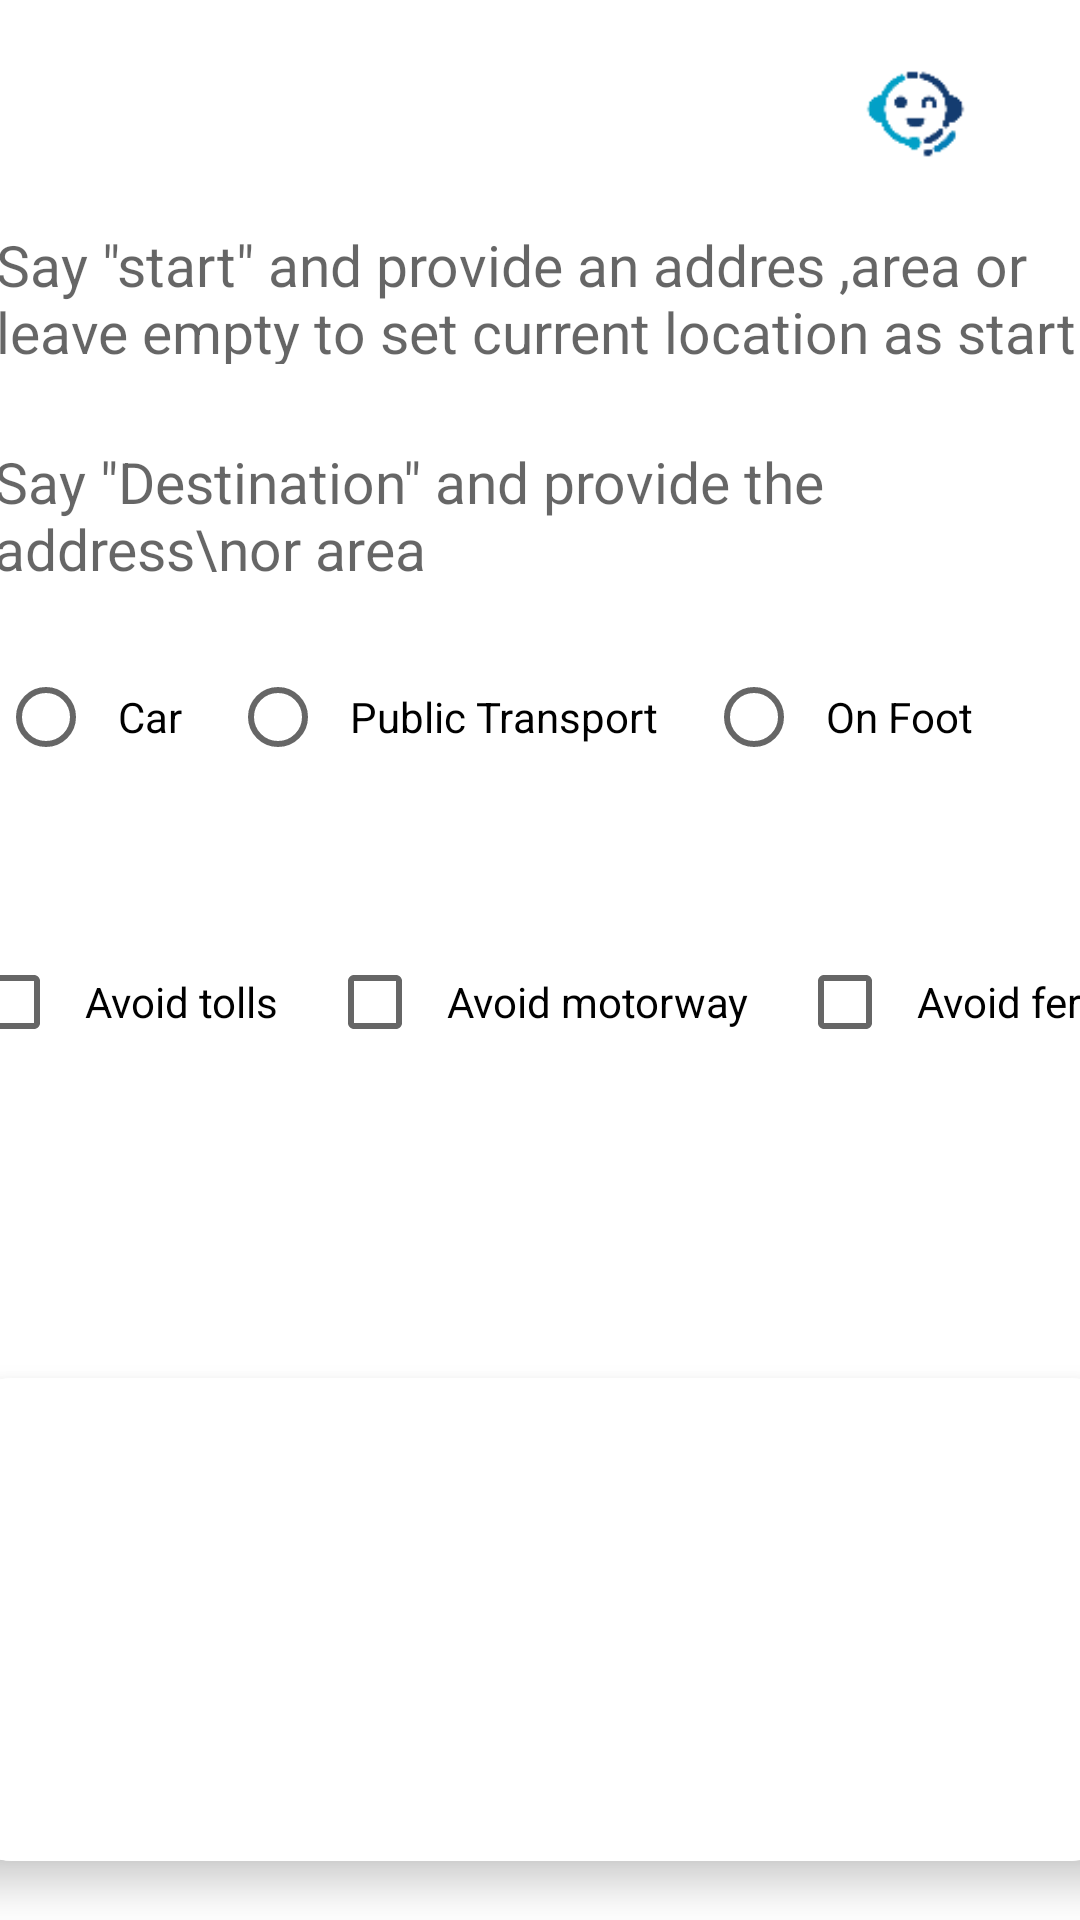

Icons on this 1080px x 1920px Android screen, each with its box as (x1, y1, x2, y2):
helpbotresized: (867, 71, 964, 157)
